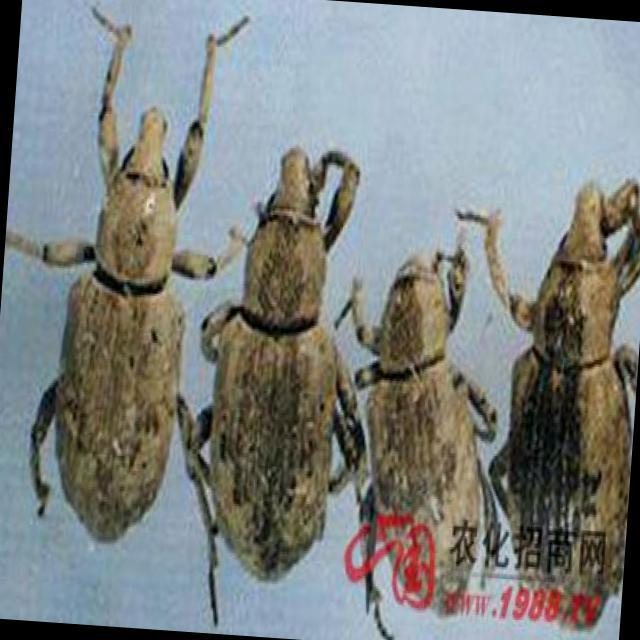ricebug: (6, 8, 239, 541), (457, 180, 639, 624), (201, 147, 359, 578), (353, 248, 496, 589)
